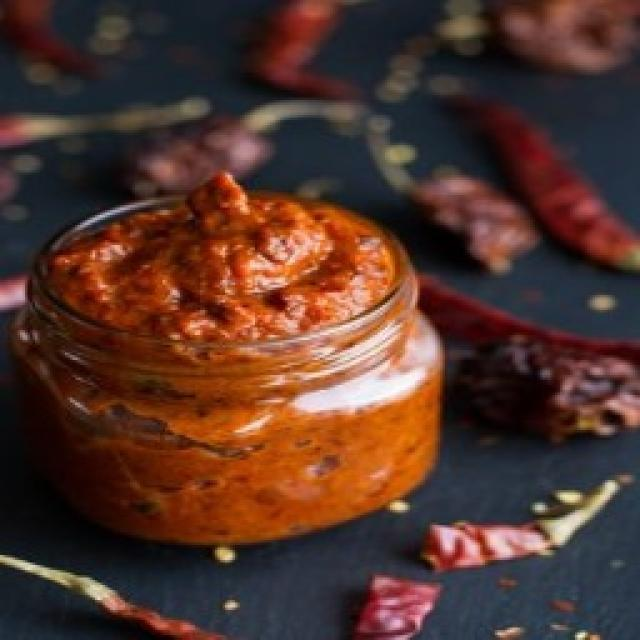Harissa: (8, 175, 445, 555)
